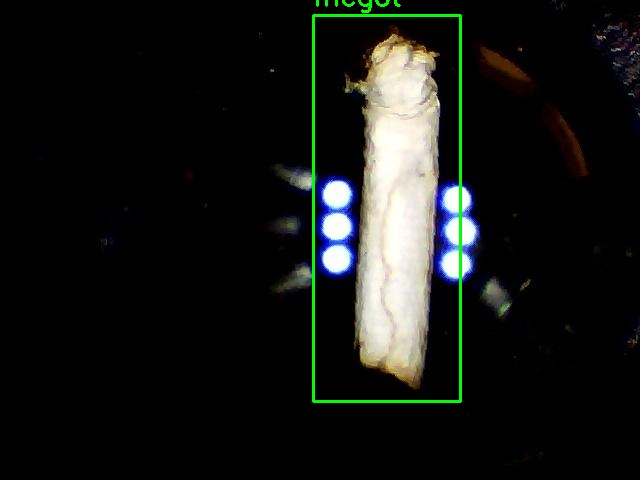megot: (313, 15, 460, 401)
